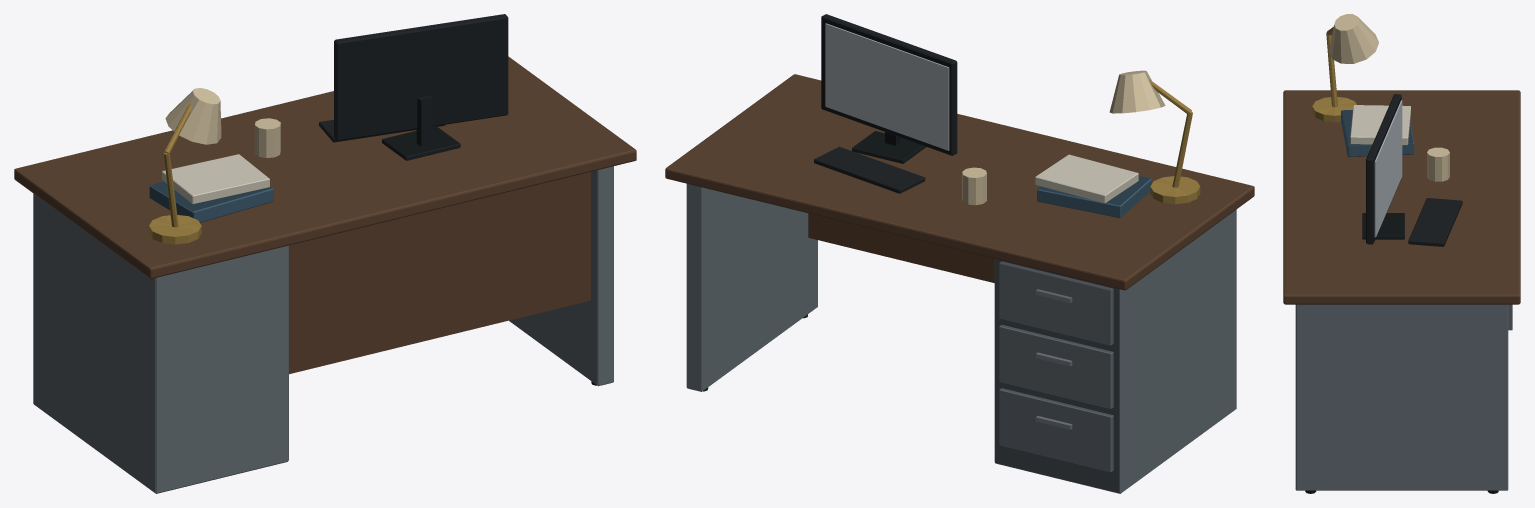
The model's file is prop_school_office_desk.glb.
3 views of the same model, side by side, from view 1: azimuth 30°, elevation 25°; view 2: azimuth 150°, elevation 25°; view 3: azimuth 270°, elevation 25° (orthographic). The views are drawn at different scales.
Parts seen in each view (by area): view 1: prop_school_office_desk; view 2: prop_school_office_desk; view 3: prop_school_office_desk.
Part boxes in pixels (box(x1,y1,x2,y2)): prop_school_office_desk: box(14, 14, 636, 493); prop_school_office_desk: box(665, 14, 1254, 493); prop_school_office_desk: box(1283, 14, 1520, 493).
Size of the model in its own units: 1.6 by 1.15 by 0.78.
